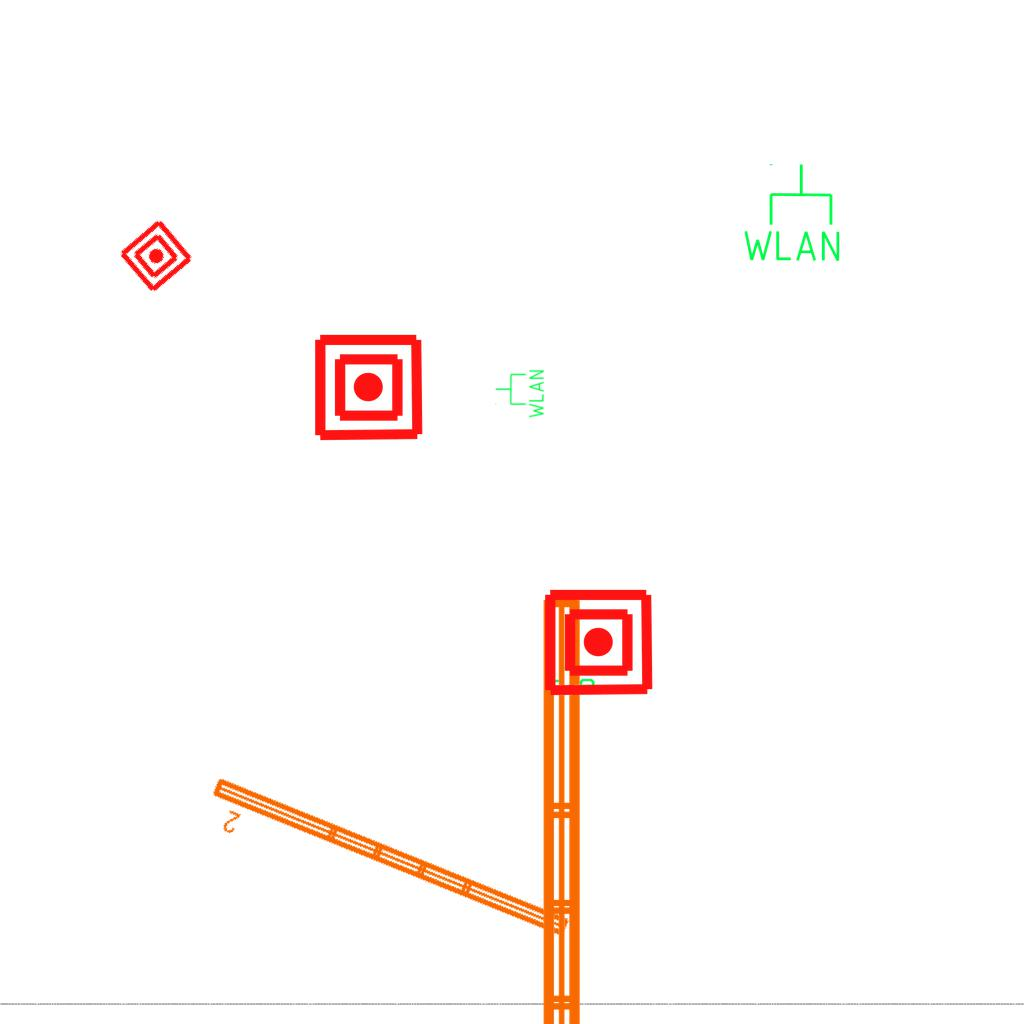Ambulanz_Pendelleuchte_LED: (196, 770, 577, 968), (531, 586, 643, 1024)
Datenanschluss_einfach: (546, 663, 596, 697)
NAM-Nichtautomatischer_Melder: (312, 331, 425, 444), (542, 586, 655, 699), (116, 216, 196, 296)
WLAN: (739, 161, 844, 265), (494, 368, 546, 420)
